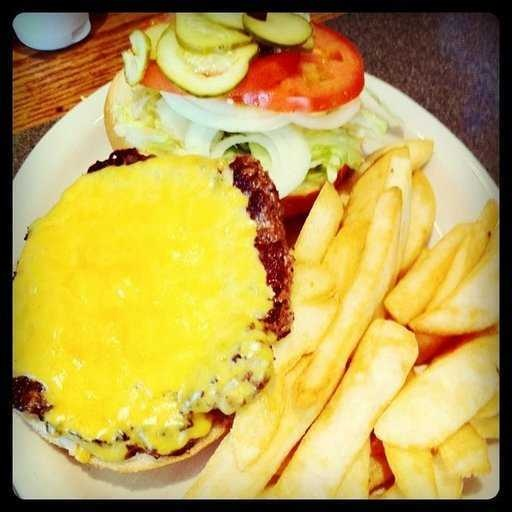hamburger: (11, 14, 391, 471)
